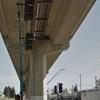Bridge: (5, 13, 69, 86)
